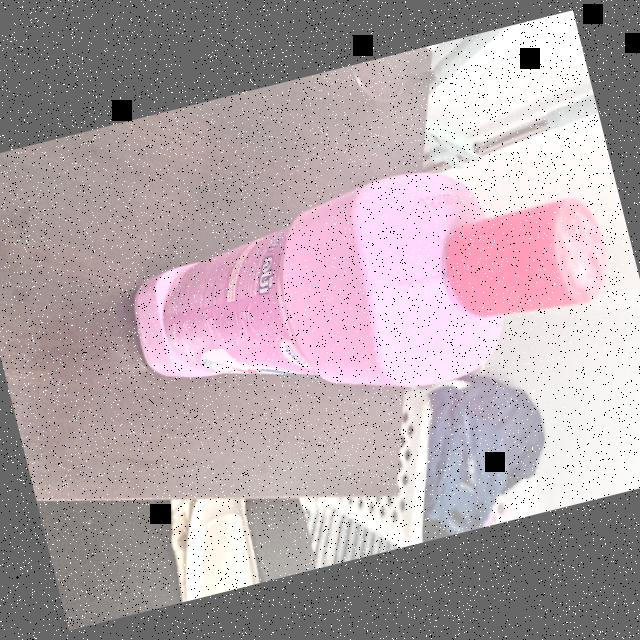chemical_plastic_bottle: (107, 126, 625, 454)
